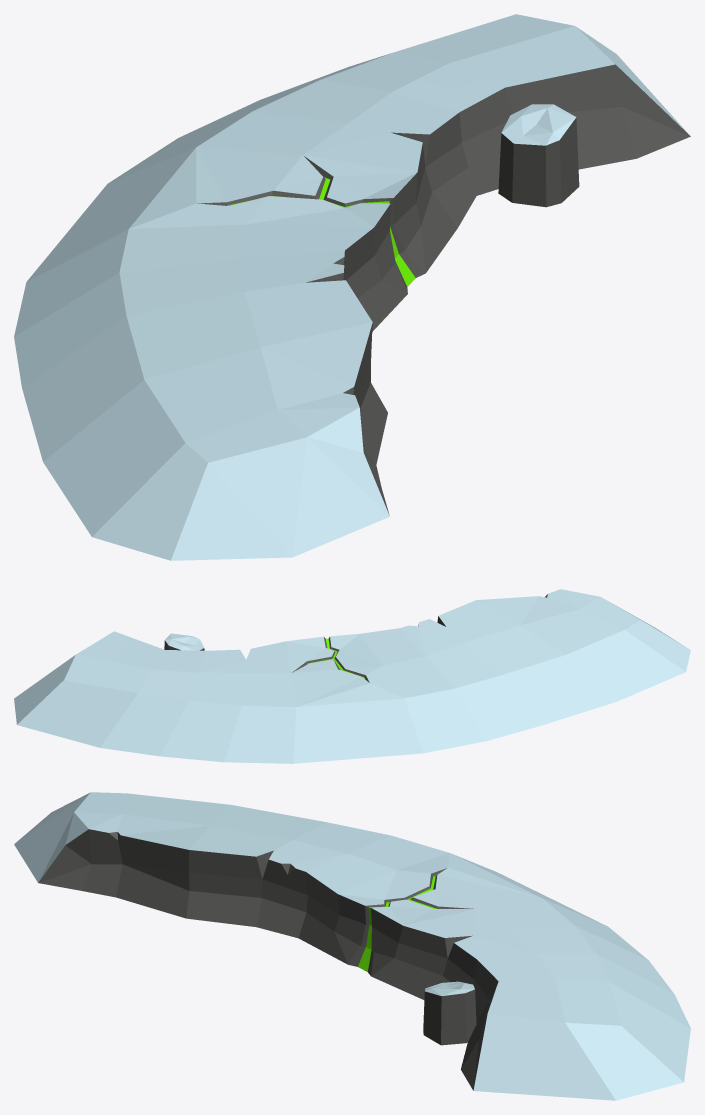
File: worlds_SM_Env_LakeEdge_Corner_01.gltf
The picture shows the model from 3 angles, top to bottom: view 1: azimuth 30°, elevation 25°; view 2: azimuth 150°, elevation 25°; view 3: azimuth 270°, elevation 25°; orthographic projection. The views are drawn at different scales.
Parts seen in each view (by area): view 1: SM_Env_LakeEdge_Corner_01; view 2: SM_Env_LakeEdge_Corner_01; view 3: SM_Env_LakeEdge_Corner_01.
Part boxes in pixels (x1,y1,x2,y2): SM_Env_LakeEdge_Corner_01: (14,14,690,560); SM_Env_LakeEdge_Corner_01: (14,589,690,763); SM_Env_LakeEdge_Corner_01: (14,792,690,1100).
Bounding box in the file's own units: 35.63 × 3.58 × 33.95.
Materials: 1 (1 with a texture image).
